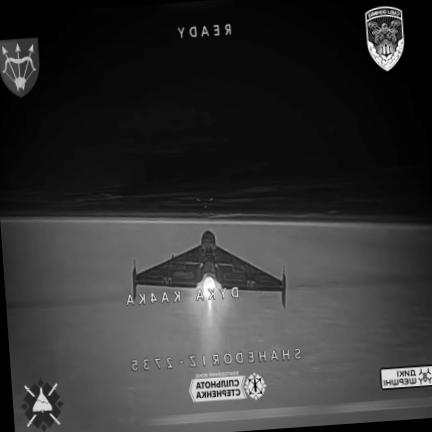Shahed: (131, 231, 286, 307)
